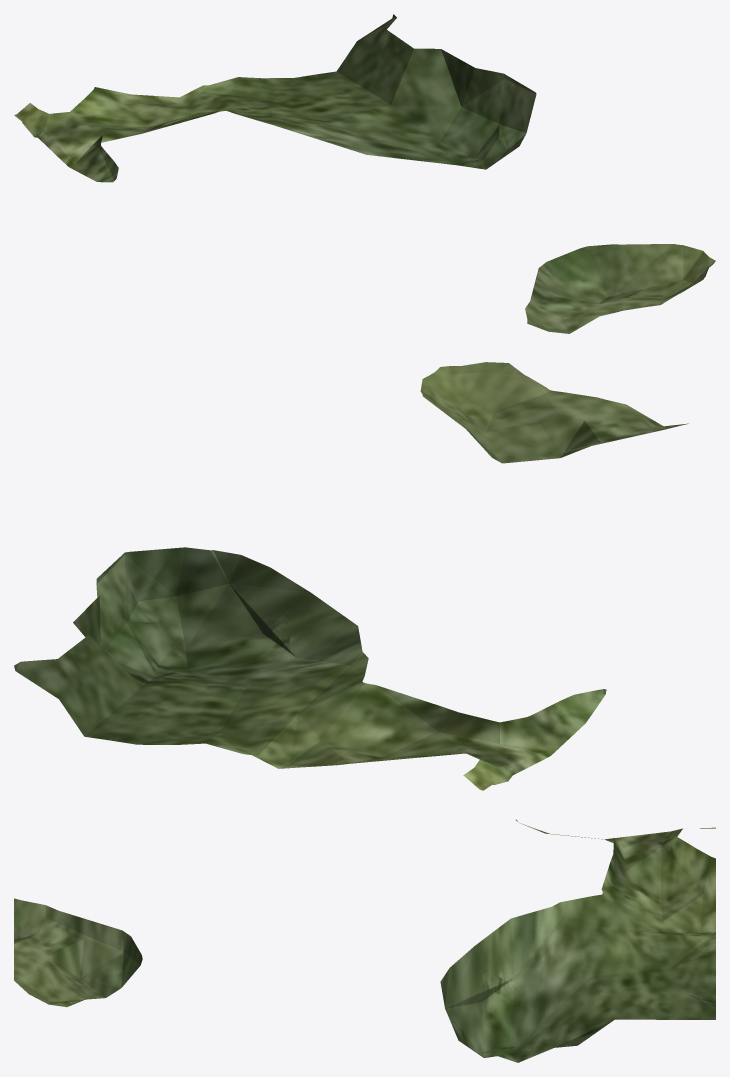
3 views of the same model, one above another, from view 1: azimuth 30°, elevation 25°; view 2: azimuth 150°, elevation 25°; view 3: azimuth 270°, elevation 25° (orthographic). The views are drawn at different scales.
Size of the model in its own units: 1.97 by 0.3129 by 2.95.
1 material, 1 textured.
